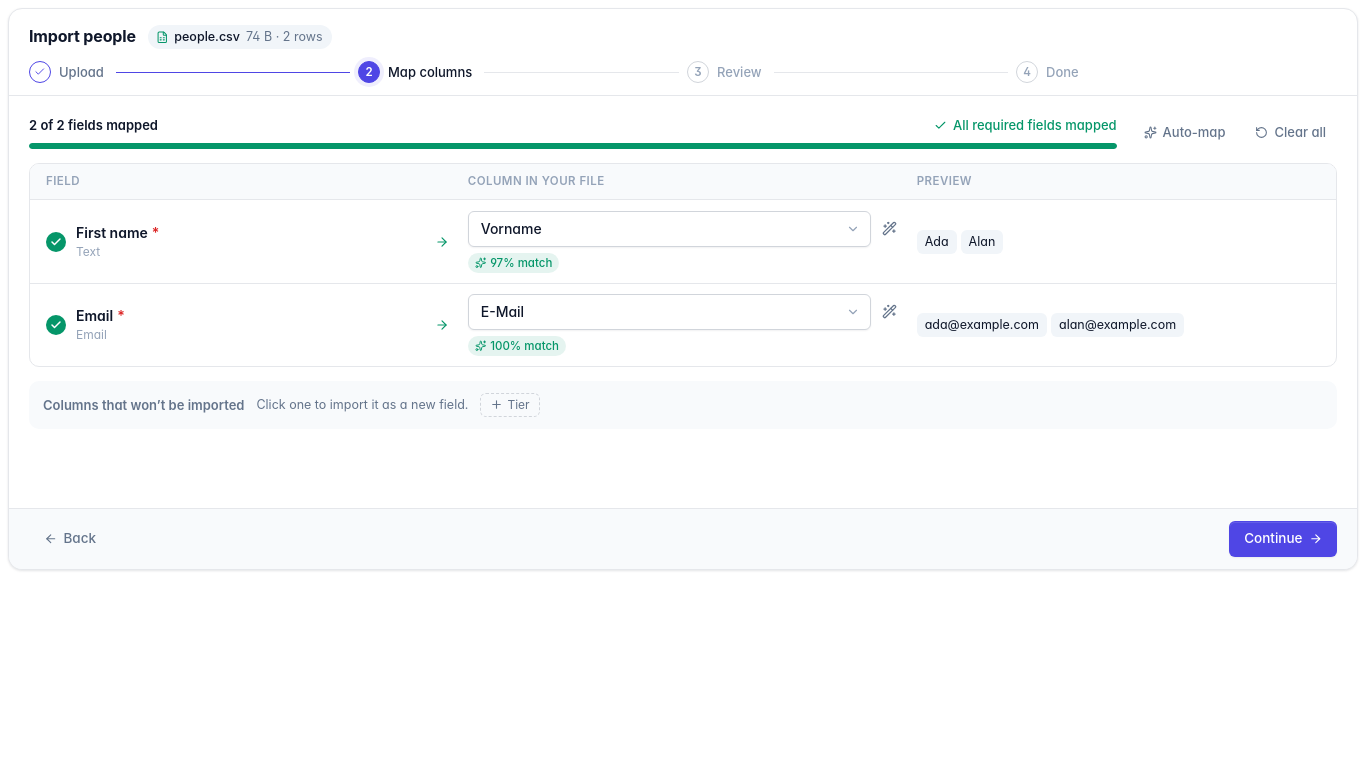
custom fields in <Importer> › shows the error when a name is taken, and can remove a field
The width and height of the screenshot is (1366, 768).
Click the button with aria-label "Add as field: Tier".
click(510, 405)  # box [480,393,540,417]
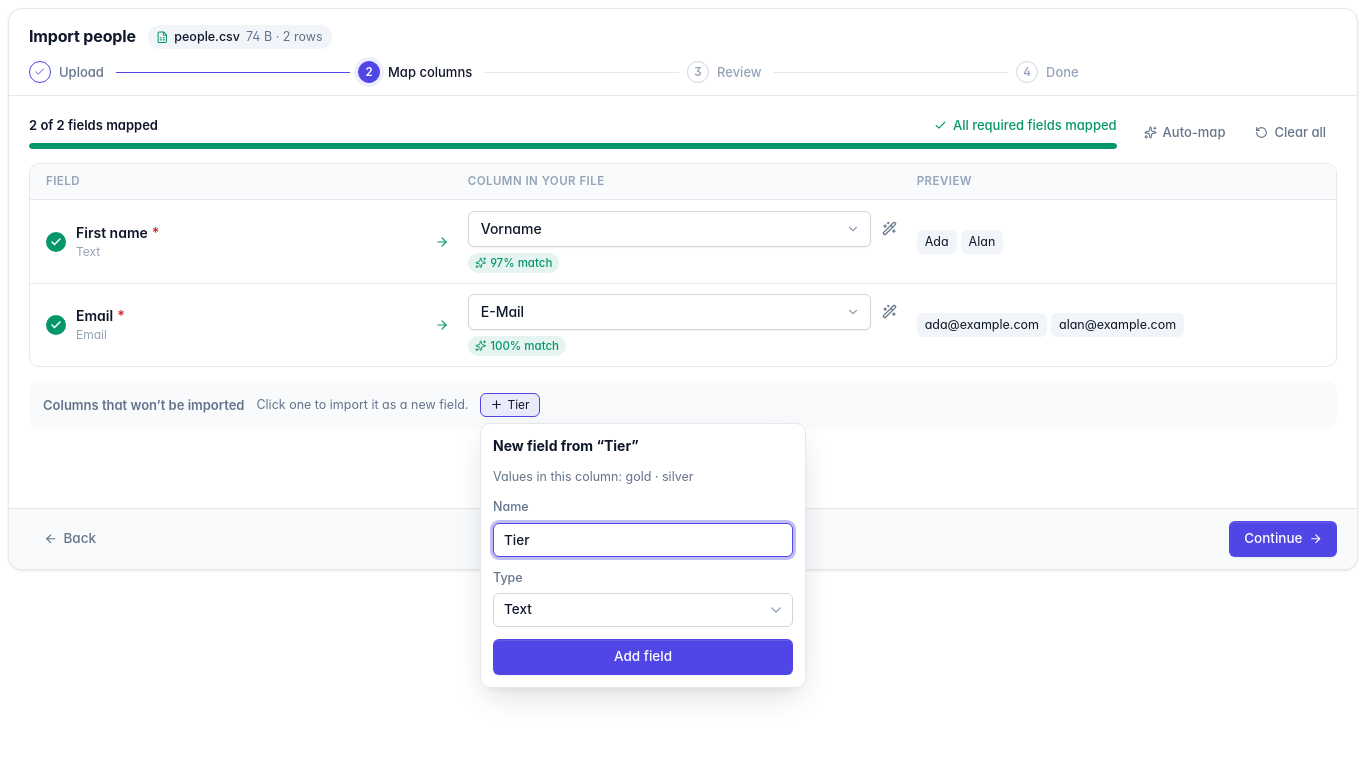
Replace the text in the field labelled "Name" with "Email" at (643, 540), box [493,522,793,556]
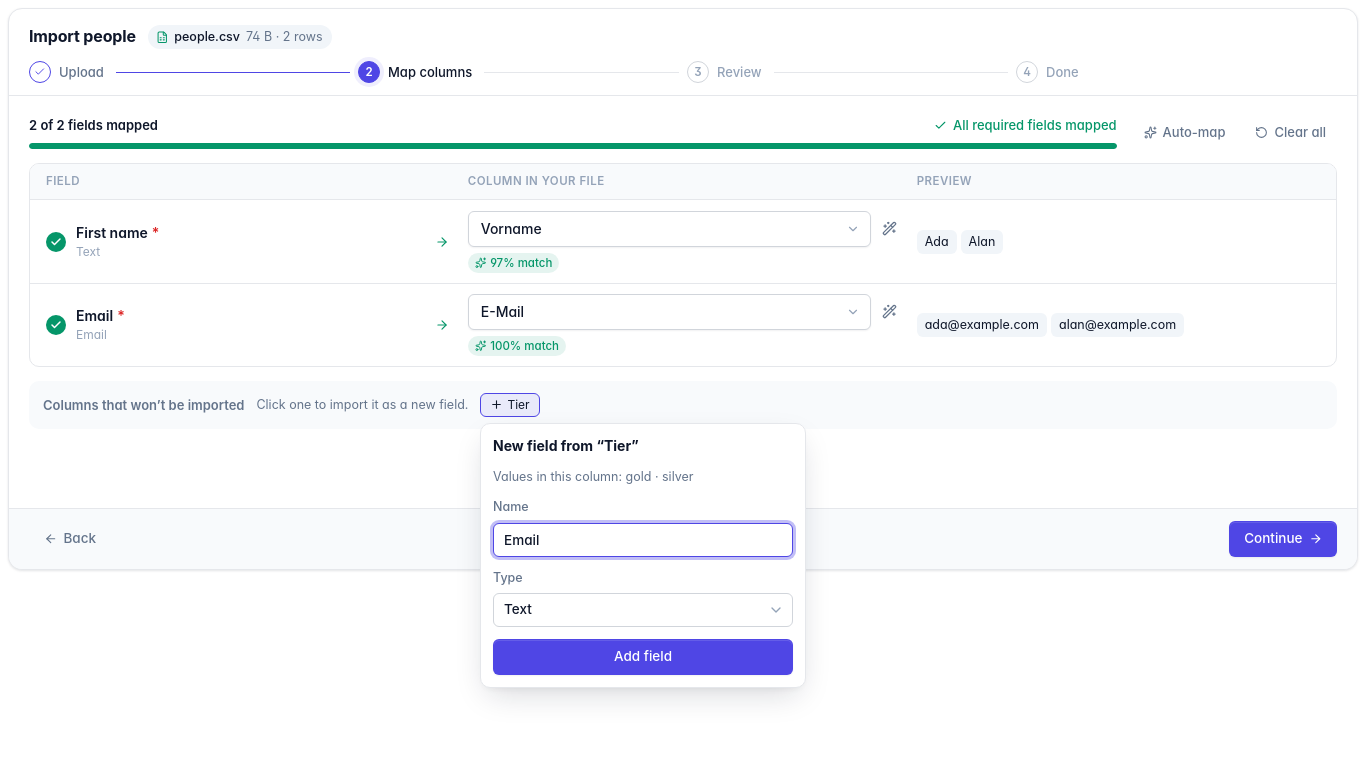
Click the button "Add field".
click(643, 657)  # box [493,639,793,675]
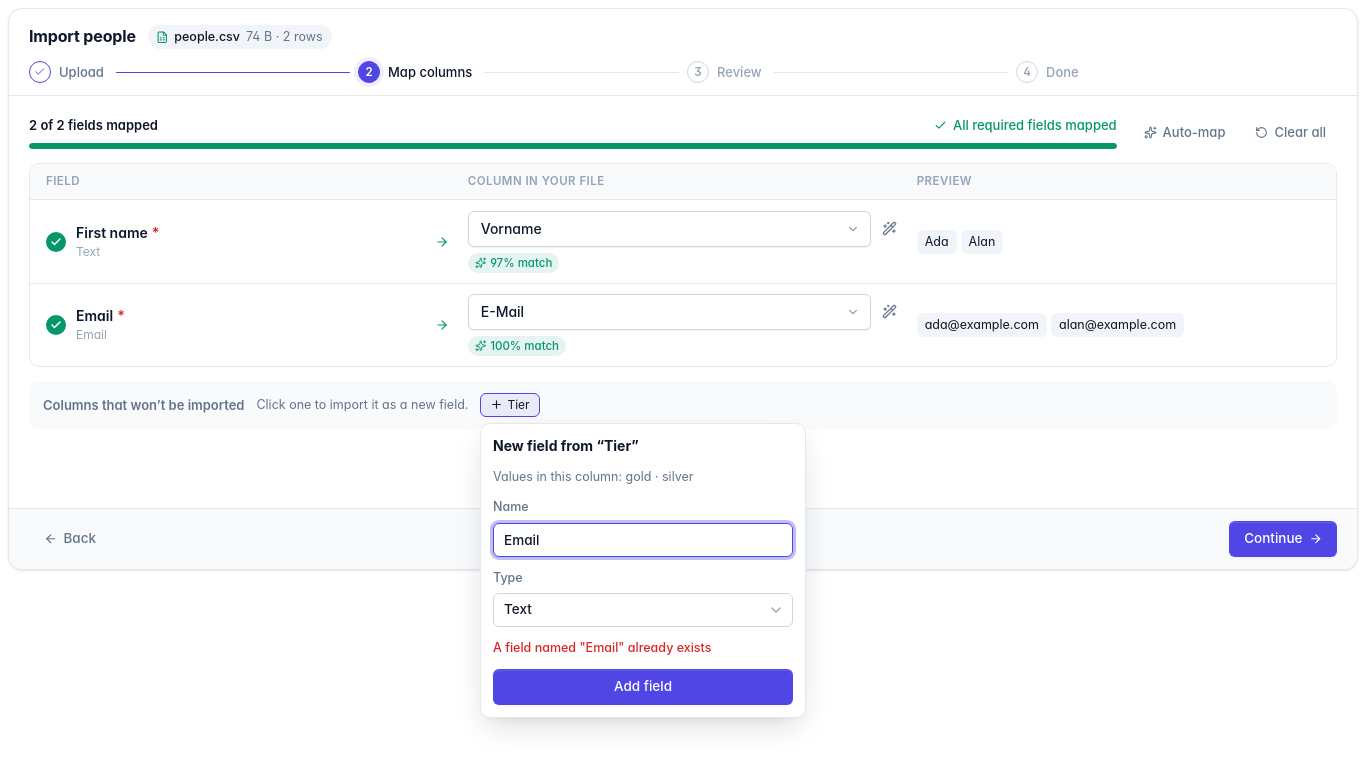
Check: the message shows "already exists", box [493,640,712,655]
Replace the text in the field labelled "Name" with "Tier" at (643, 540), box [493,522,793,556]
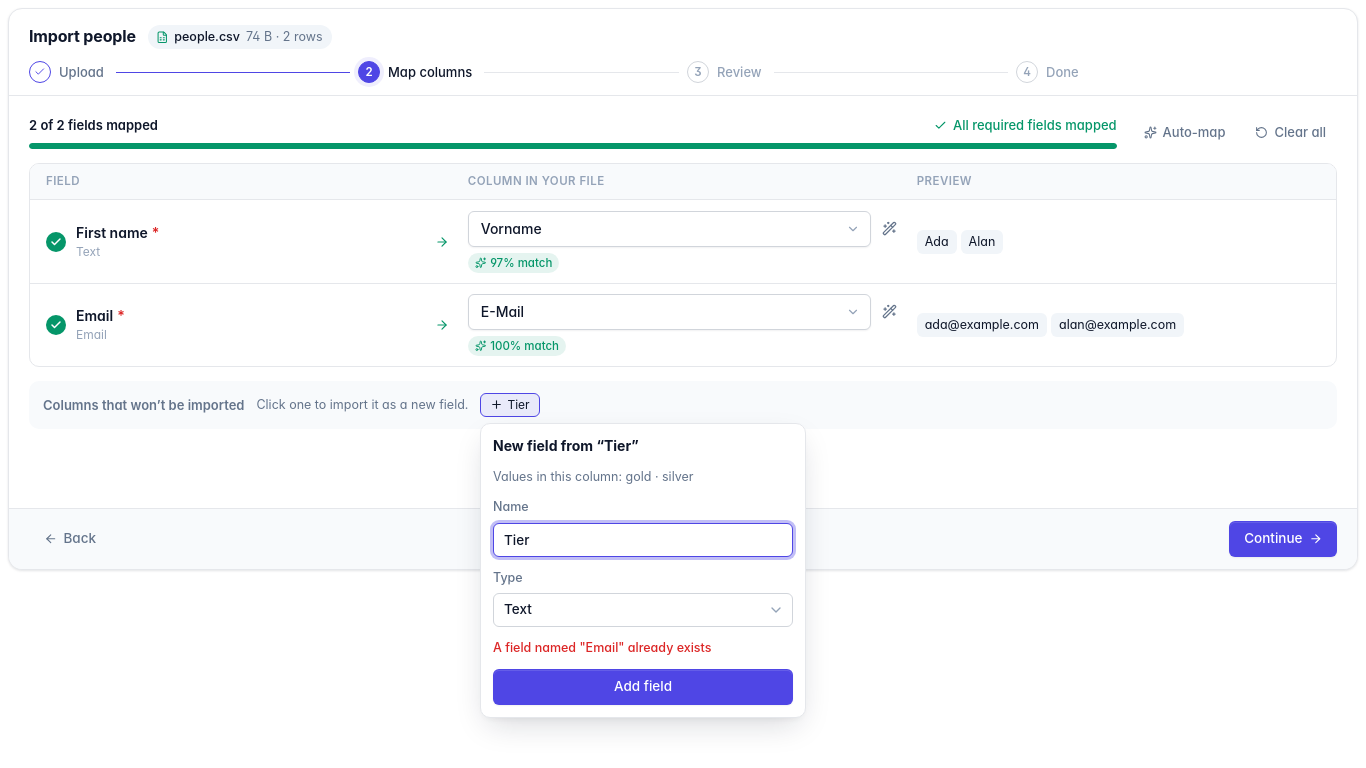
Click the button "Add field".
click(643, 687)  # box [493,669,793,705]
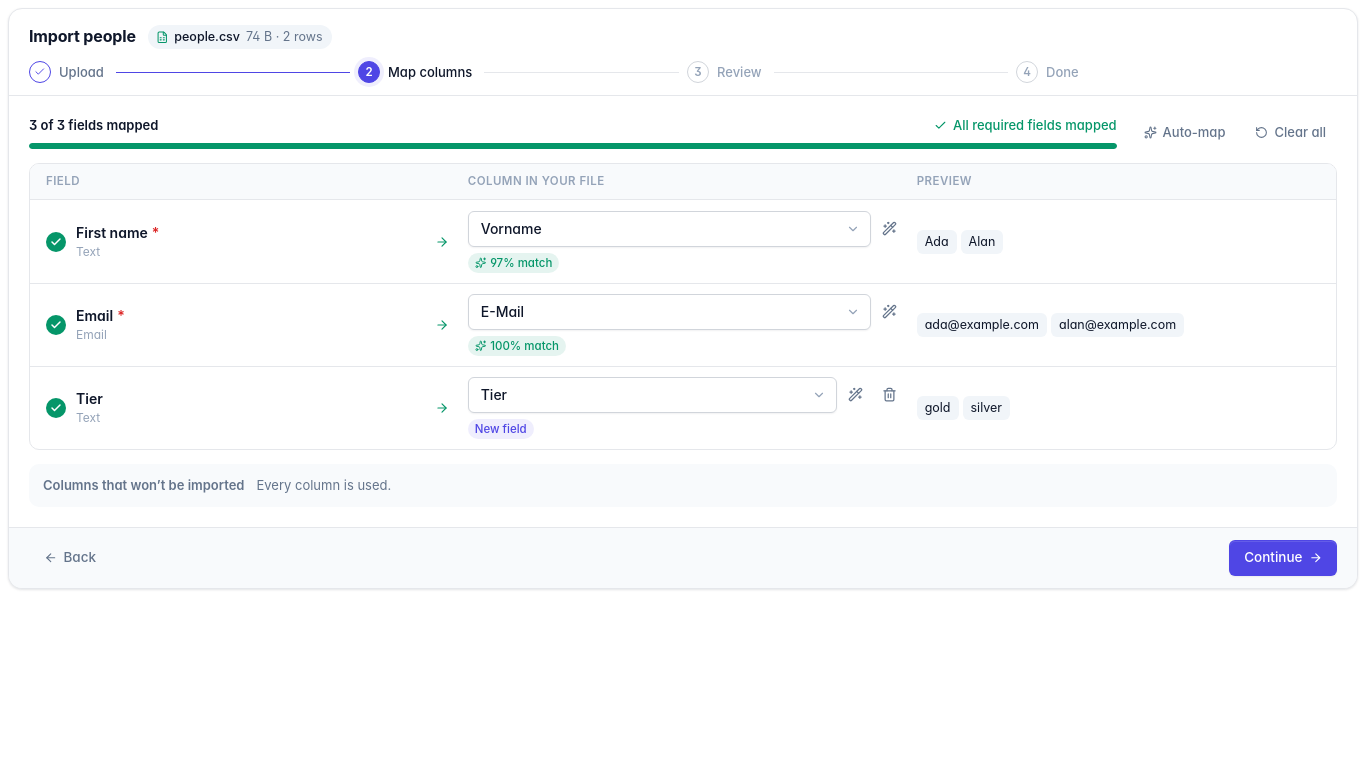
Check: the text "3 of 3 fields mapped" is shown, box [29,116,158,135]
Click the button named "Remove this field".
click(890, 395)  # box [875,380,905,410]
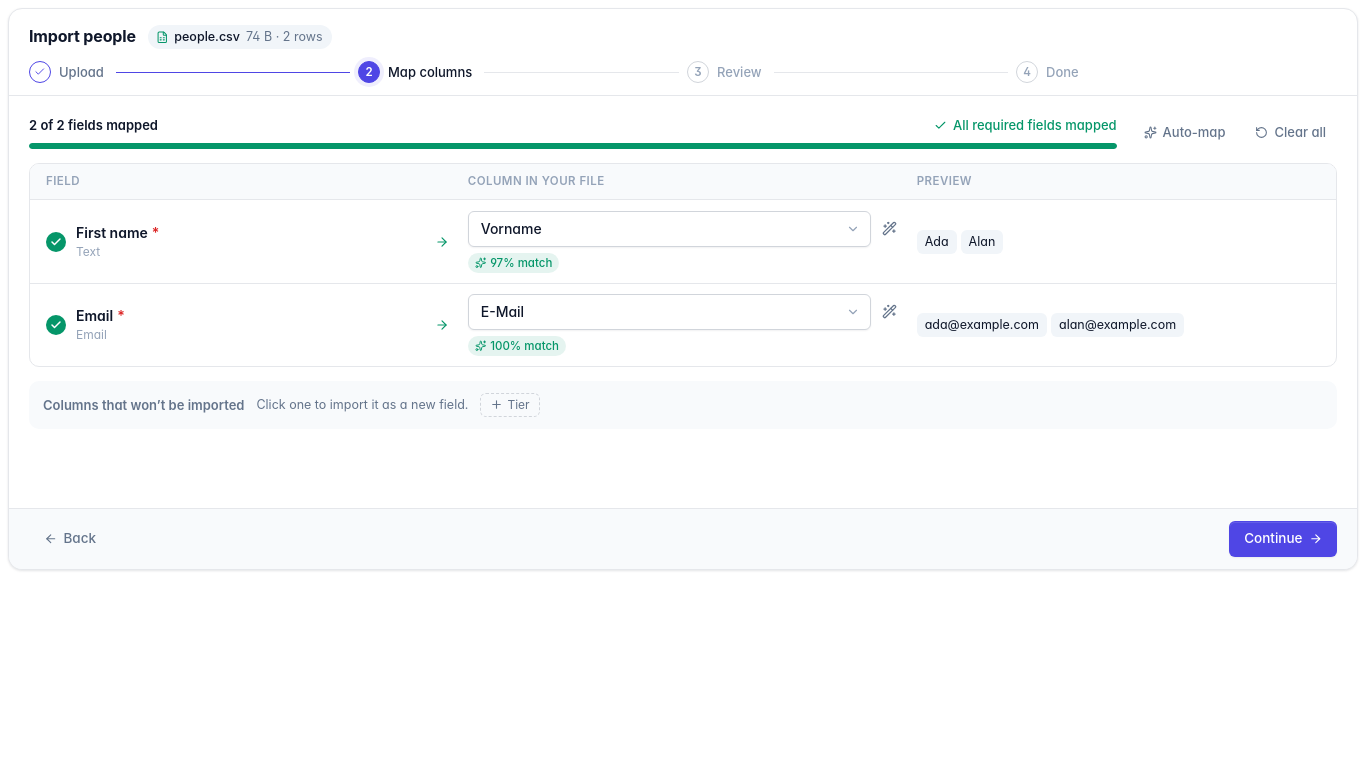
Check: the button with aria-label "Add as field: Tier" is shown, box [480,393,540,417]
Check: the text "2 of 2 fields mapped" is shown, box [29,116,158,135]
